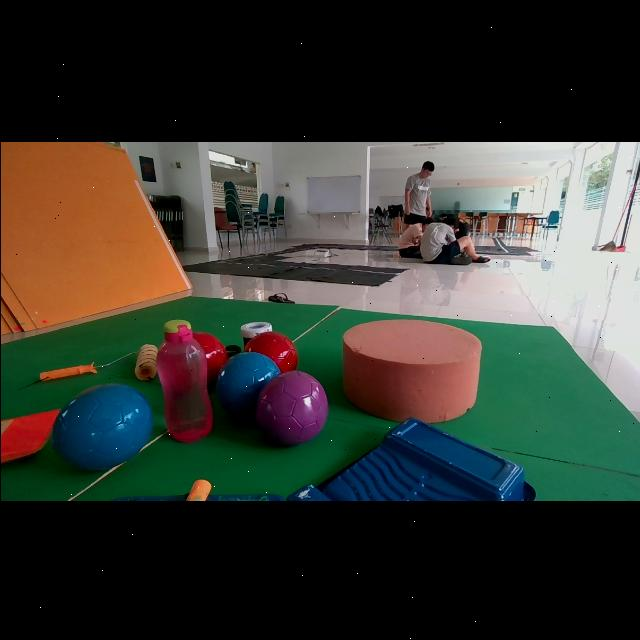B: (51, 382, 152, 470), (214, 350, 279, 416)
P: (254, 369, 327, 444)
R: (243, 330, 297, 370), (191, 330, 227, 383)
